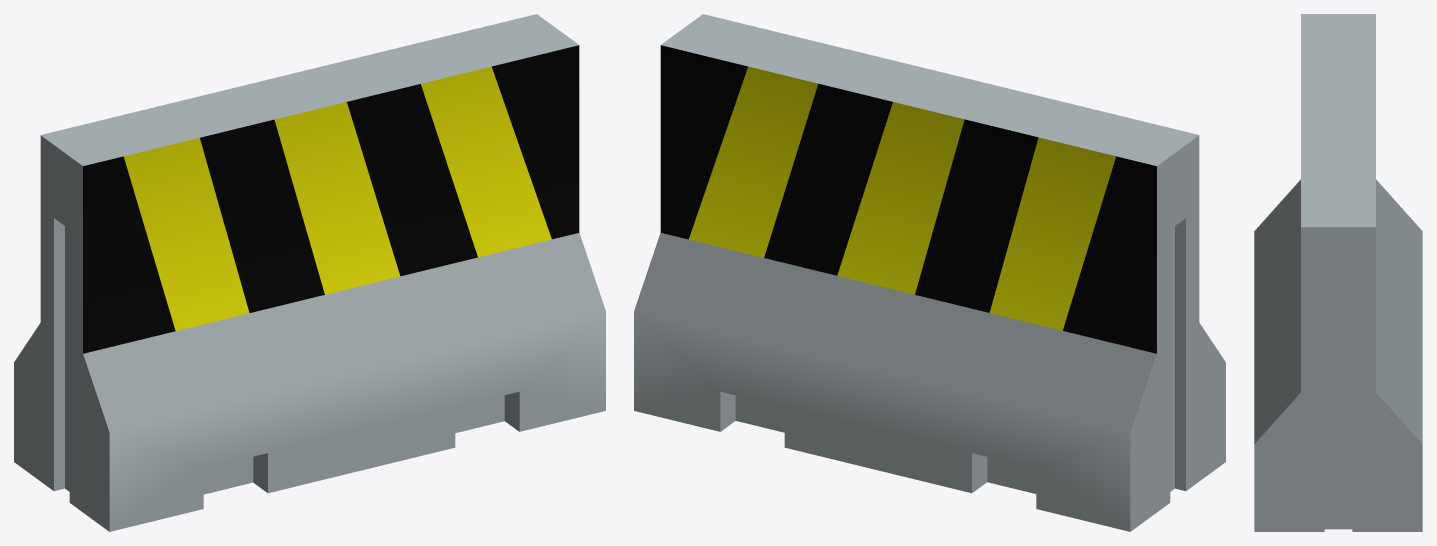
The model's file is PoliceBarrier.fbx.
The picture shows the model from 3 angles, left to right: view 1: azimuth 30°, elevation 25°; view 2: azimuth 150°, elevation 25°; view 3: azimuth 270°, elevation 25°; orthographic projection. The views are drawn at different scales.
Visible parts, largest first — view 1: Barrier_1; view 2: Barrier_1; view 3: Barrier_1.
Boxes of the visible parts, <box> form: Barrier_1: <box>14,14,605,531</box>; Barrier_1: <box>634,14,1225,531</box>; Barrier_1: <box>1254,14,1422,531</box>.
Bounding box in the file's own units: 300 × 200 × 100.
